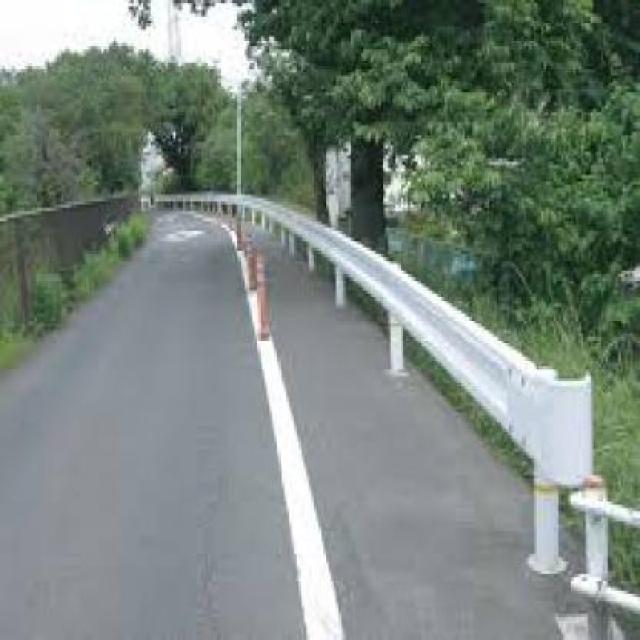Guard rail: (231, 183, 597, 588)
